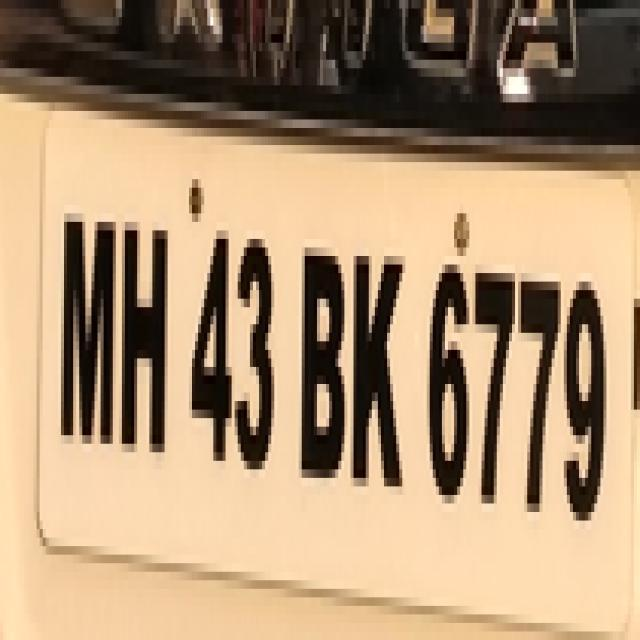3: (233, 228, 282, 479)
4: (187, 222, 236, 480)
6: (416, 256, 472, 504)
7: (519, 262, 563, 534), (472, 256, 518, 516)
9: (564, 279, 614, 531)
B: (292, 233, 353, 490)
H: (121, 212, 170, 464)
K: (348, 240, 412, 514)
M: (57, 201, 118, 451)
